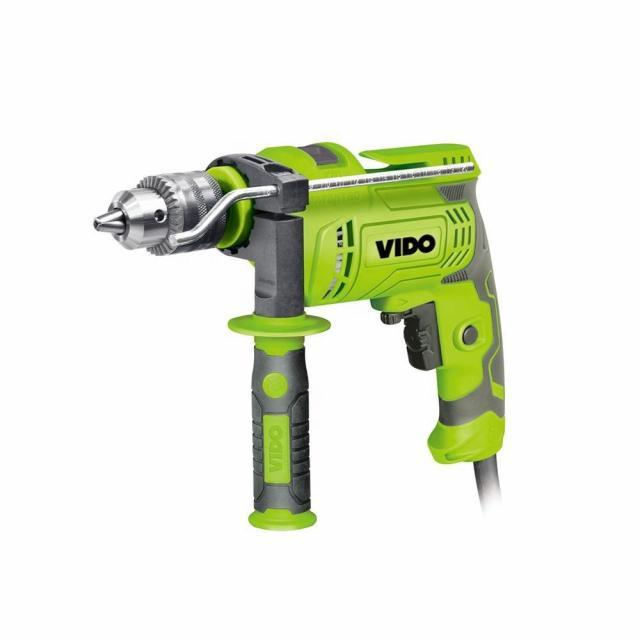drill: (92, 142, 508, 532)
